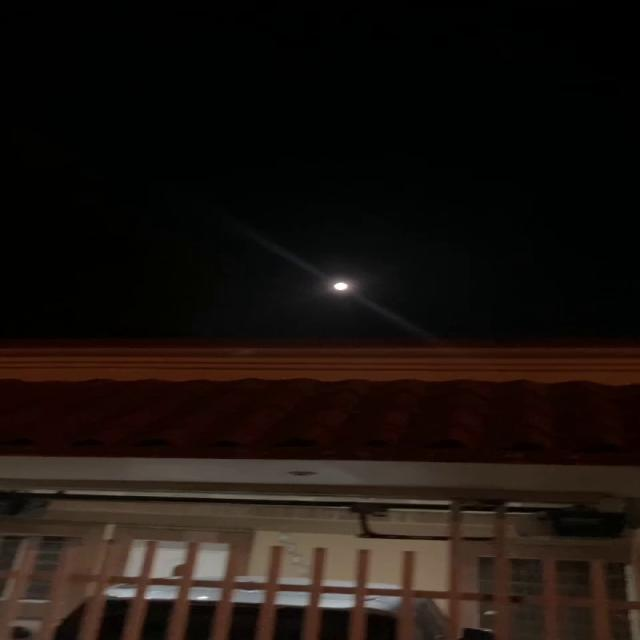moon: (319, 274, 355, 299)
